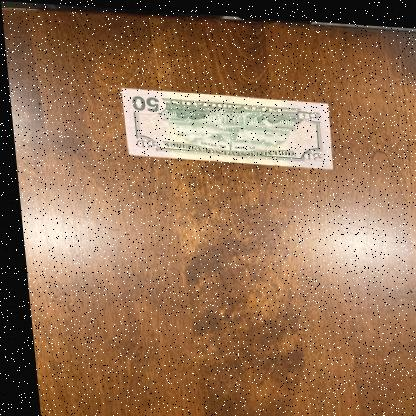fifty-back: (117, 85, 330, 164)
